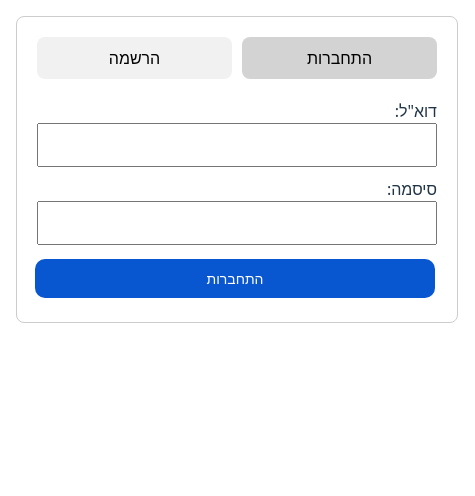
Test case: Auth Component › shows the register form with password confirmation when the register tab is clicked
The width and height of the screenshot is (475, 496).
Click the tab "הרשמה" at [134, 58], box [37, 37, 232, 79]
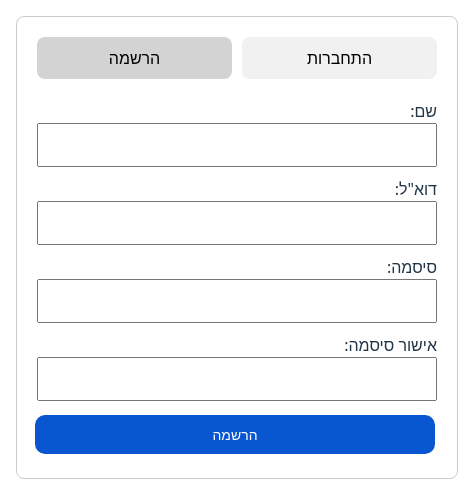
Check: the field labelled "שם:" is shown, box [37, 123, 437, 167]
Check: the password field labelled "סיסמה:" is shown, box [37, 279, 437, 323]
Check: the password field labelled "אישור סיסמה:" is shown, box [37, 357, 437, 401]
